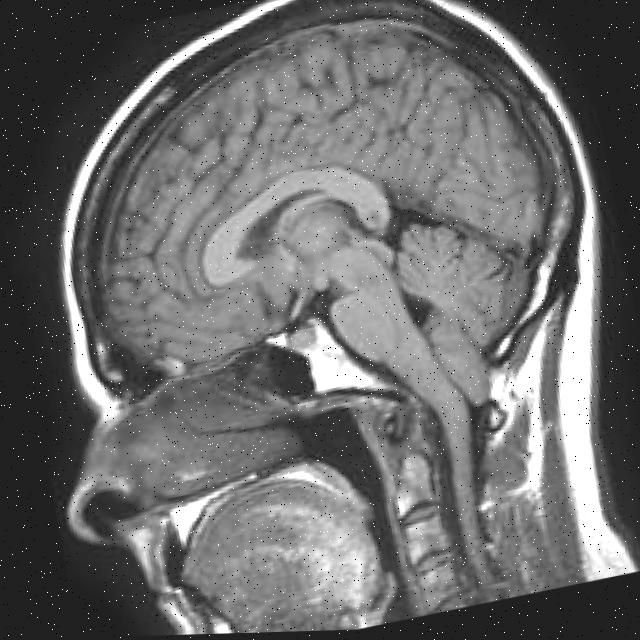NoTumor: (15, 0, 628, 487)
